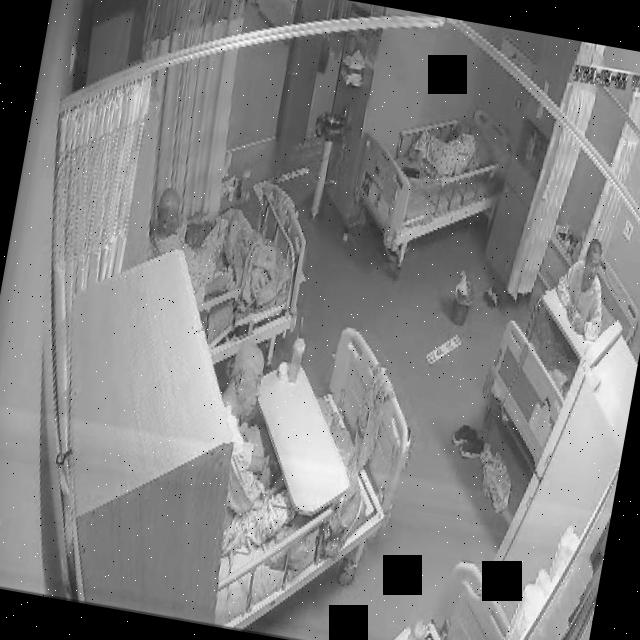bed: (199, 313, 425, 640), (472, 238, 640, 482), (161, 171, 317, 381), (346, 90, 512, 266)
lie: (399, 114, 482, 198)
patient: (193, 333, 325, 565), (137, 173, 245, 307), (546, 232, 618, 343), (399, 114, 483, 197)
sit: (191, 331, 324, 568), (136, 173, 245, 305), (548, 232, 616, 341)
